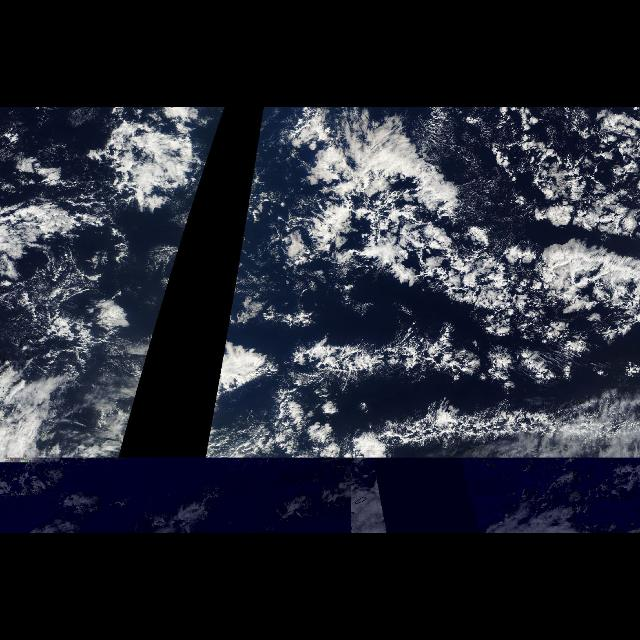Fish: (295, 329, 553, 378), (380, 400, 612, 440)
Gravel: (288, 247, 640, 405)
Sugar: (452, 119, 540, 243), (10, 260, 96, 376)
